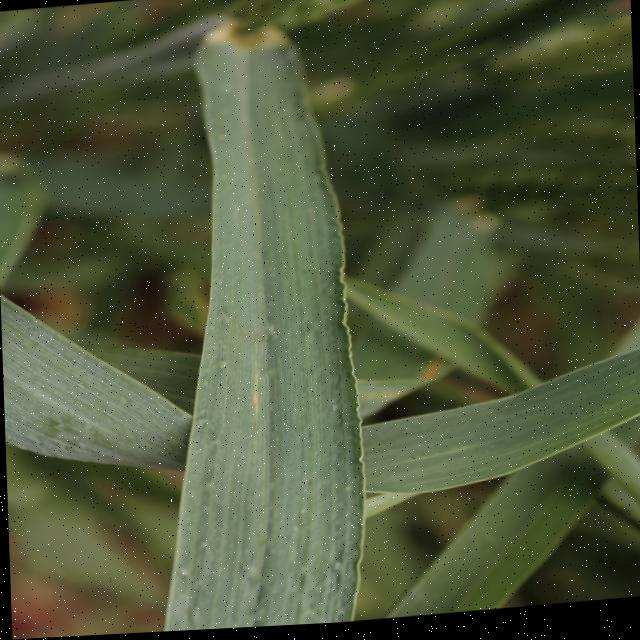healthy_wheat: (0, 255, 189, 517), (348, 360, 640, 520), (368, 464, 633, 624)
yellow_rust: (338, 356, 462, 421), (227, 355, 273, 430)
